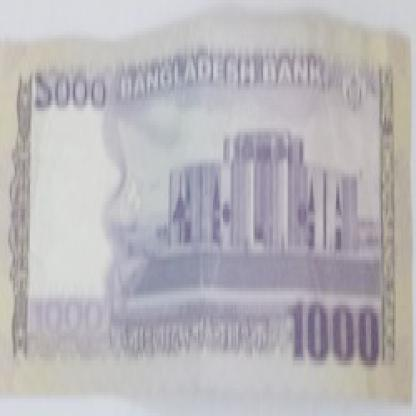One Thousand taka: (286, 295, 386, 378), (30, 69, 110, 118), (30, 298, 106, 336)
